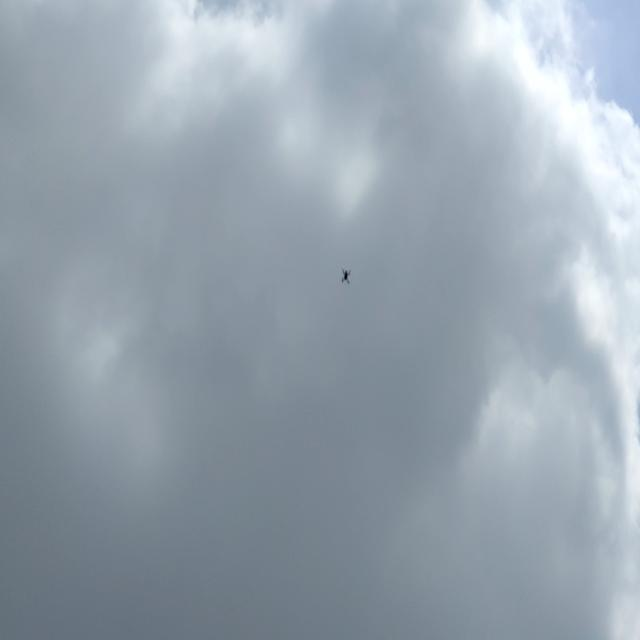drone: (338, 266, 354, 287)
